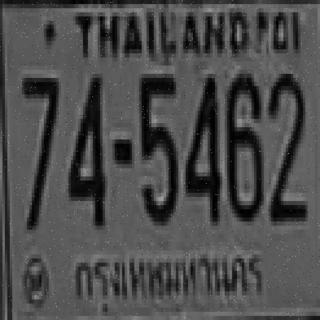N02: (267, 72, 304, 220)
N04: (66, 72, 103, 224), (183, 72, 220, 220)
N05: (137, 70, 176, 222)
N06: (224, 70, 262, 218)
N07: (19, 74, 56, 226), (19, 76, 56, 178)
P04: (71, 247, 268, 311)
